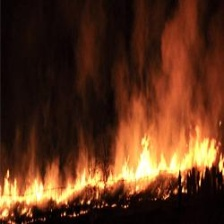fire: (1, 132, 216, 223)
